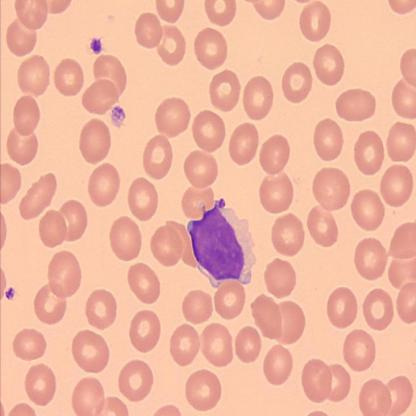Atypical lymphocyte: (185, 196, 258, 288)
